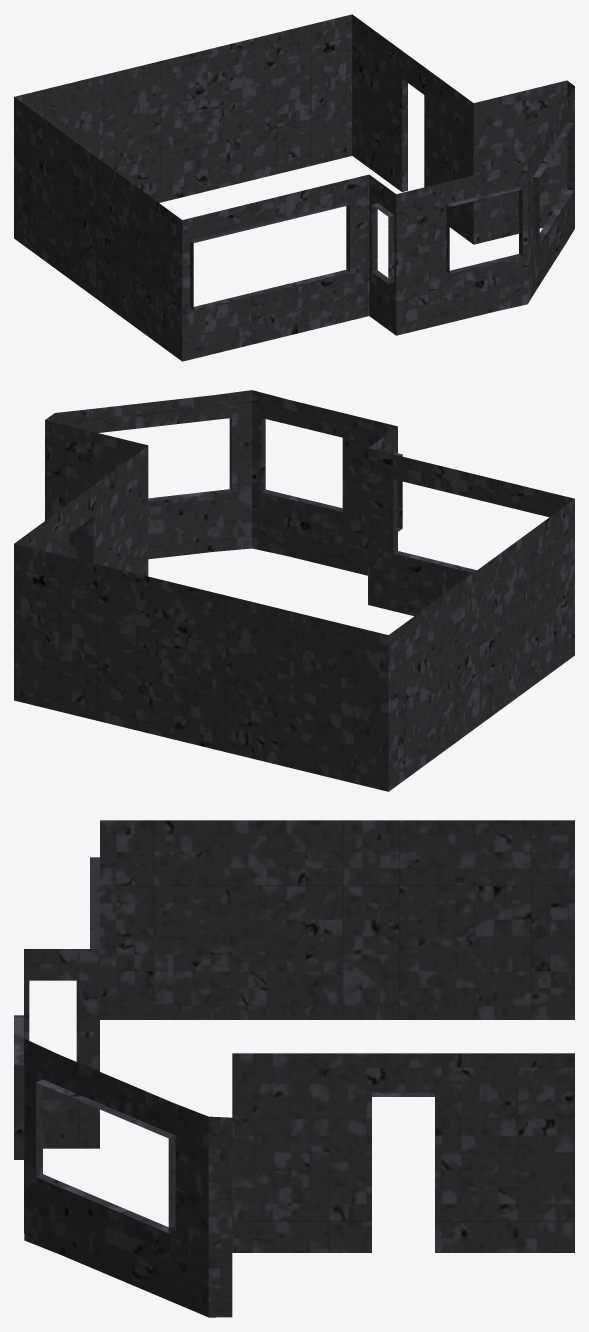
Rendered from kitchen_0_0.wall.glb.
3 renders of one model, top to bottom at view 1: azimuth 30°, elevation 25°; view 2: azimuth 150°, elevation 25°; view 3: azimuth 270°, elevation 25°, orthographic. The views are drawn at different scales.
Visible parts, largest first — view 1: kitchen_0/0.wall.001; view 2: kitchen_0/0.wall.001; view 3: kitchen_0/0.wall.001.
Boxes of the visible parts, left/top/right/bottom form: kitchen_0/0.wall.001: left=14, top=14, right=574, bottom=361; kitchen_0/0.wall.001: left=14, top=390, right=574, bottom=791; kitchen_0/0.wall.001: left=14, top=820, right=574, bottom=1317.
Size of the model in its own units: 9.24 by 2.93 by 7.37.
Materials: 1 (1 with a texture image).
